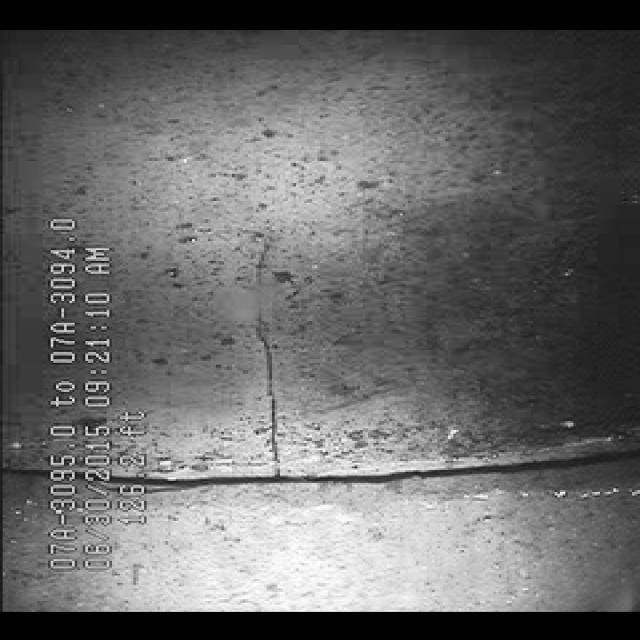Crack: (227, 221, 317, 469)
